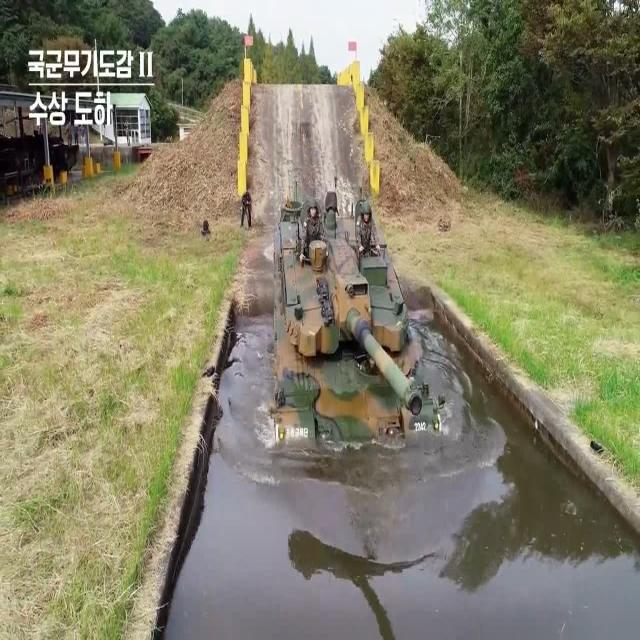korea tank: (267, 174, 447, 458)
